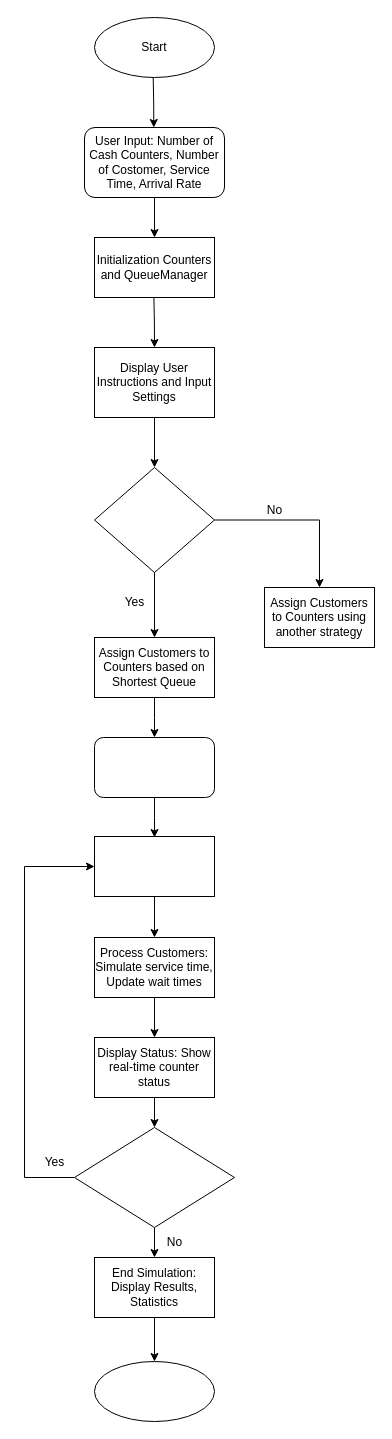
Some shapes in this 392 by 1439 pixel diagram are drawn without their labels. Here are the shapes that lost their labels. From the top down, the box of each, then its label:
(94, 466, 214, 572): Check if use ShortestQueue
(94, 736, 214, 798): Loop: for each time step until the specified duration
(94, 836, 214, 896): Simulate Arrivals: Create Customers based on Arrival Rate
(74, 1126, 234, 1228): Check if simulation time within specified duration
(94, 1360, 214, 1422): End
